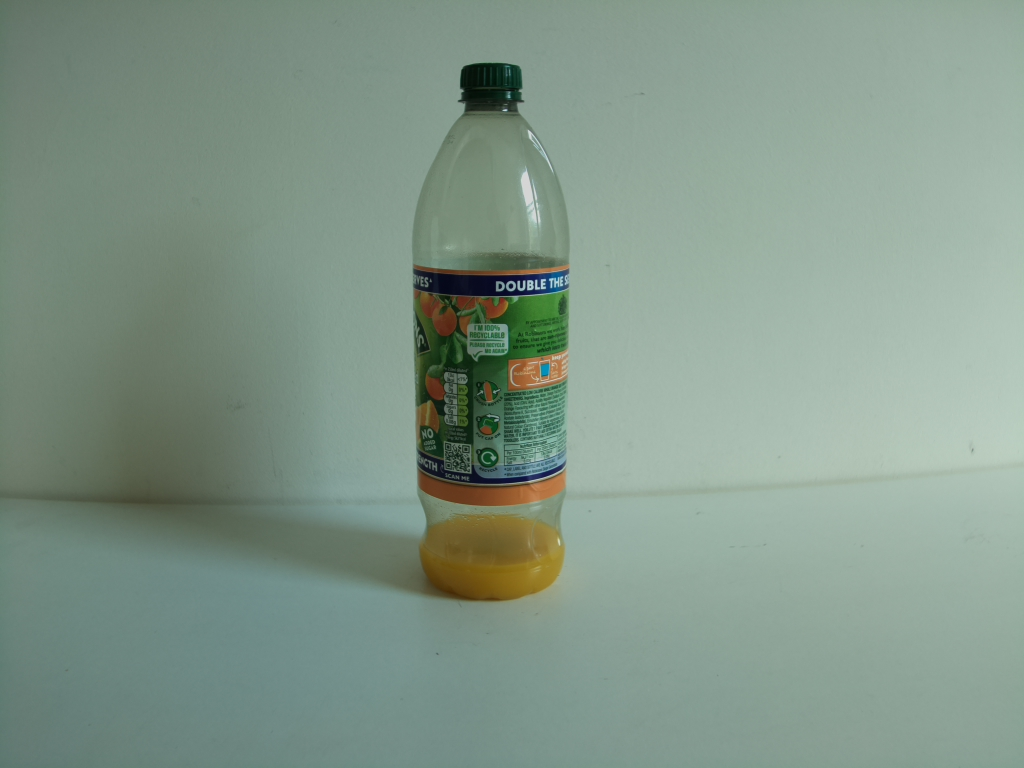juice: (405, 59, 580, 603)
